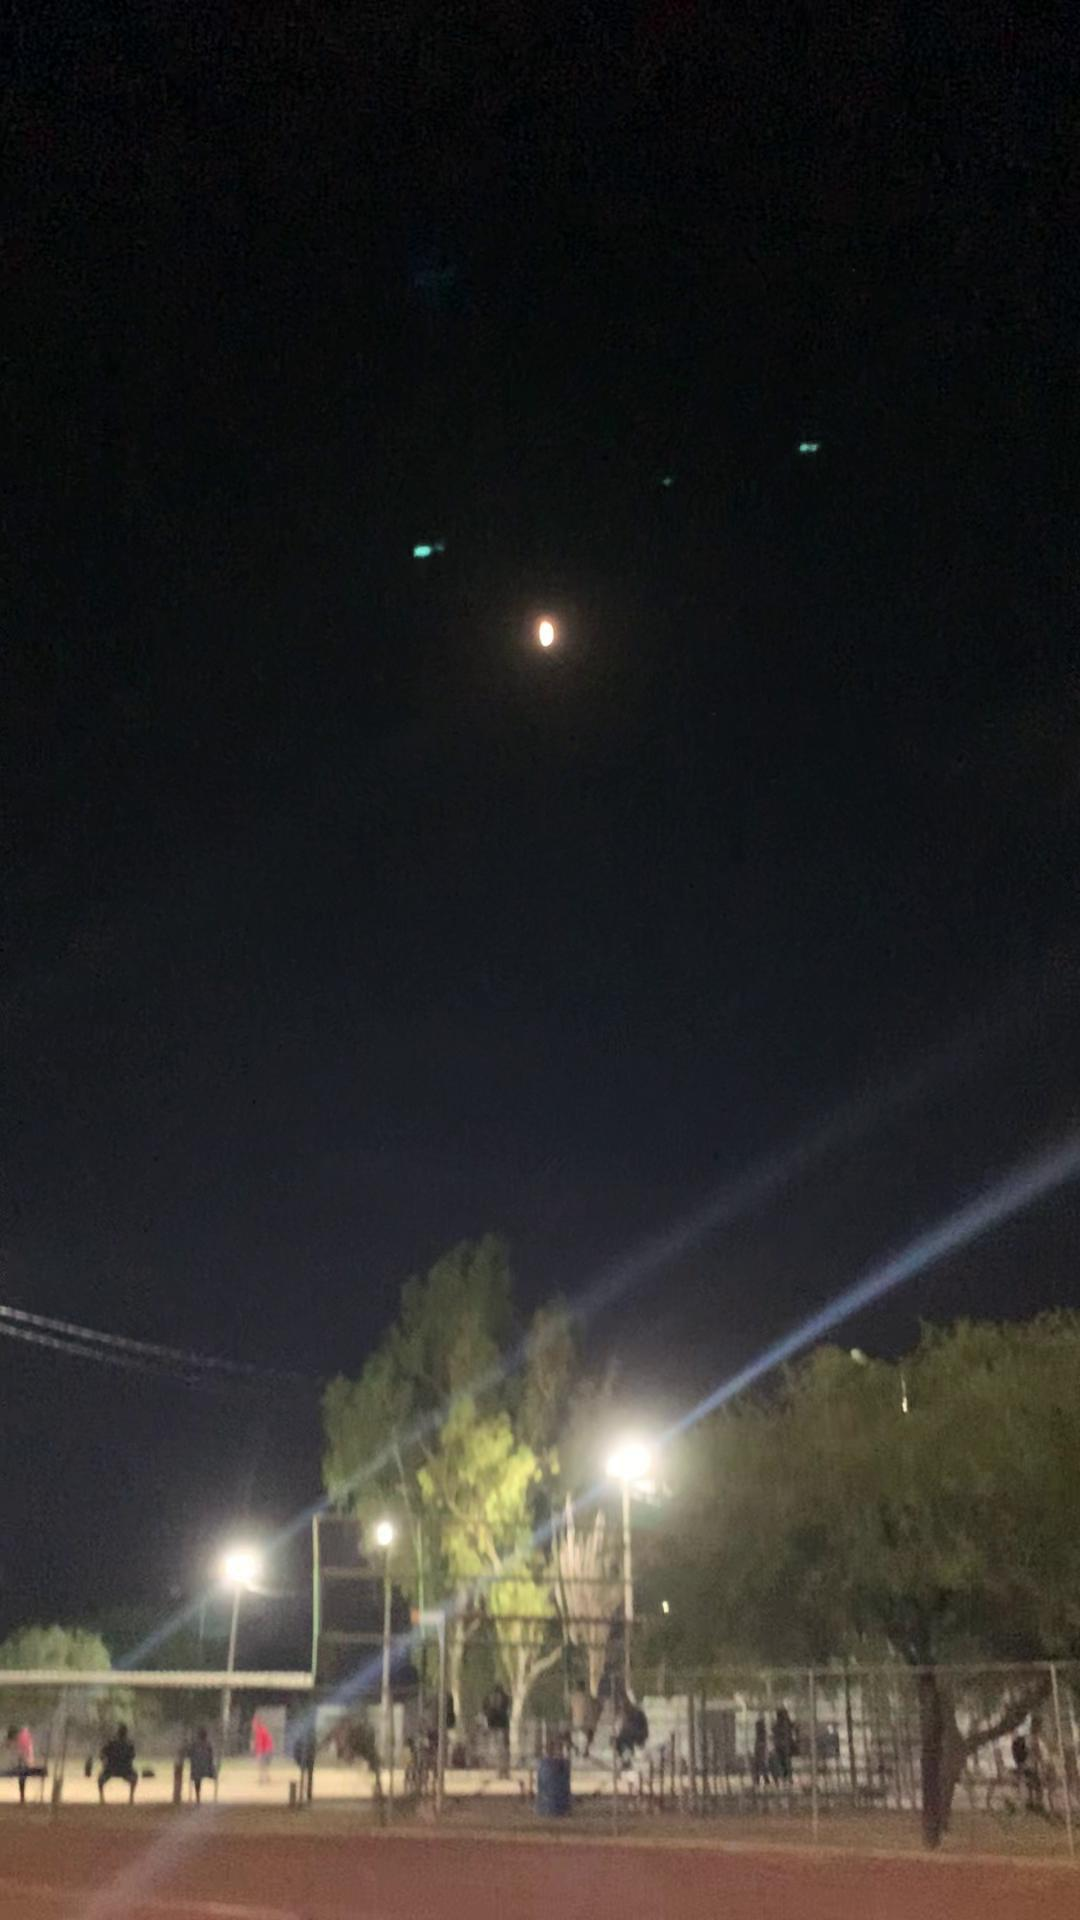moon: (517, 593, 585, 659)
